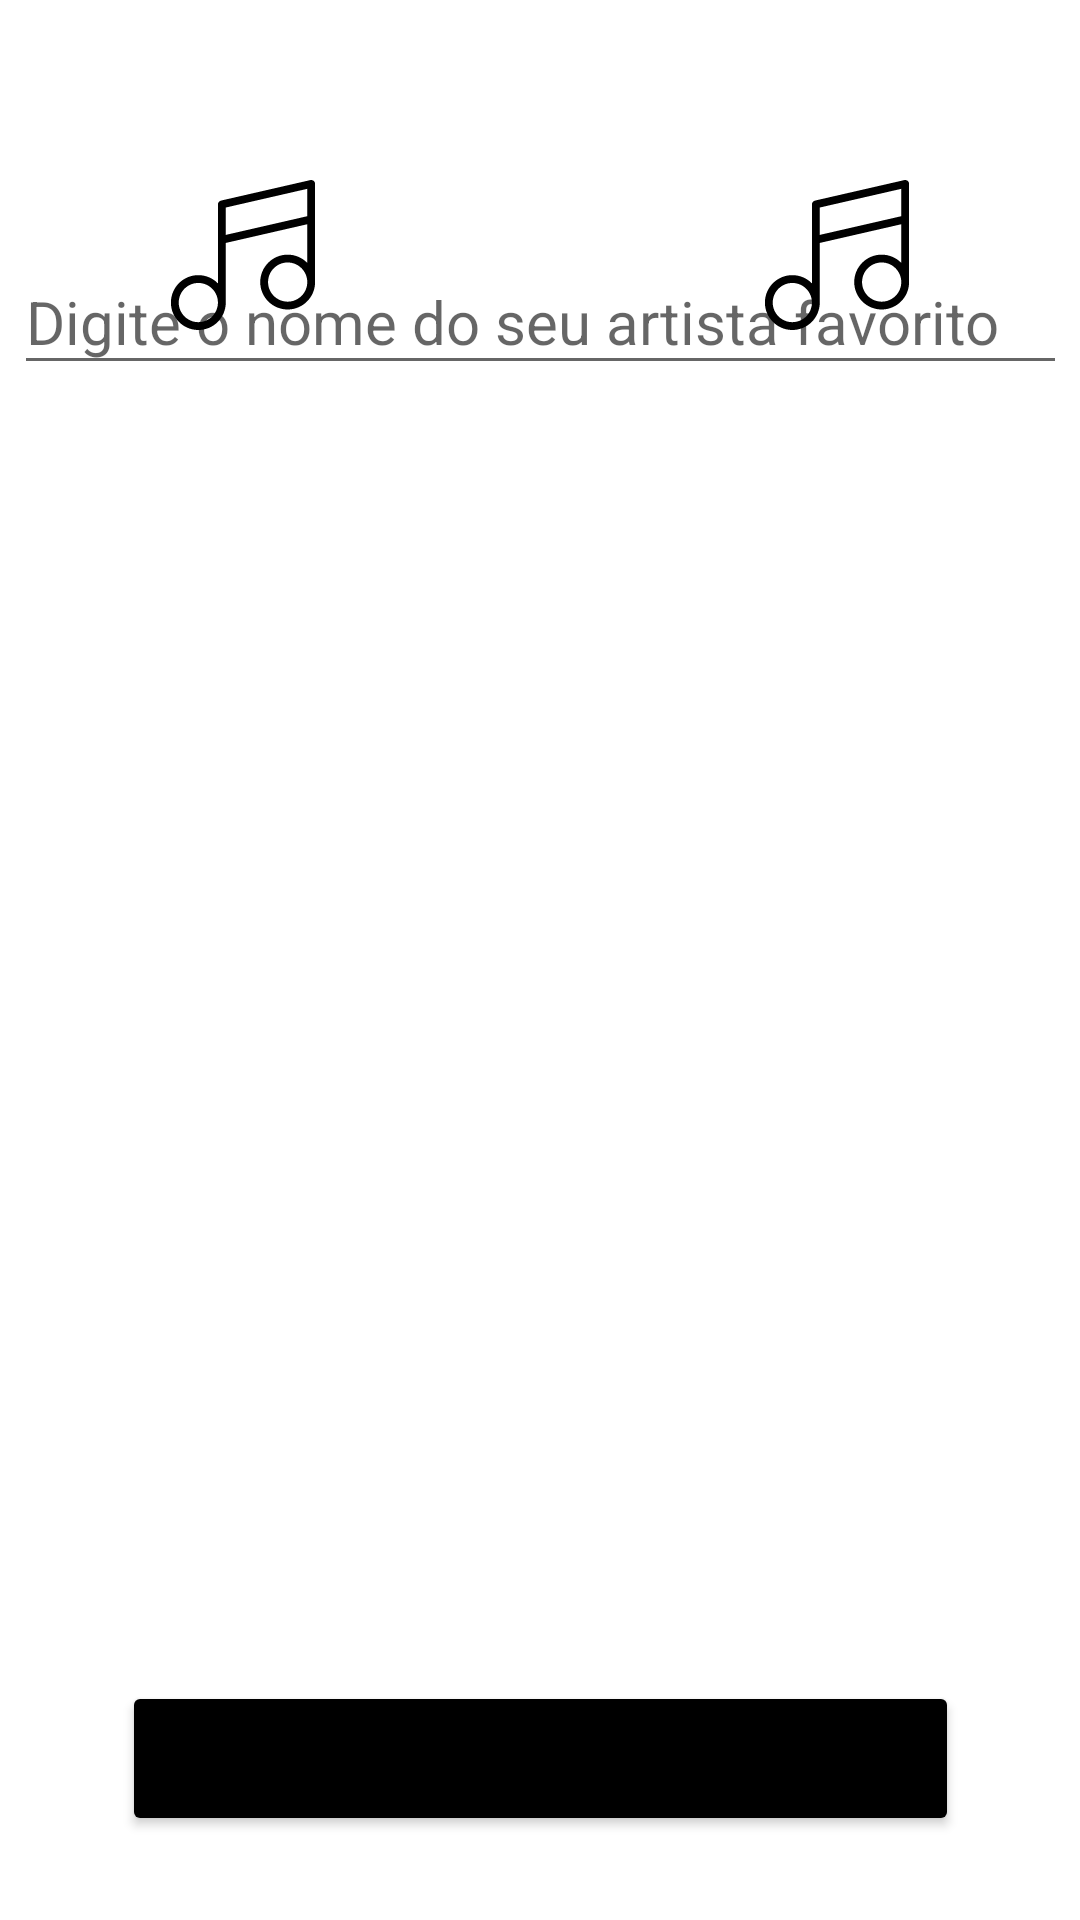

Screen size 1080px x 1920px. Icon name, then its center in pixels as (x=x, y=y):
music point symbol: (x=243, y=255), (x=835, y=255)
